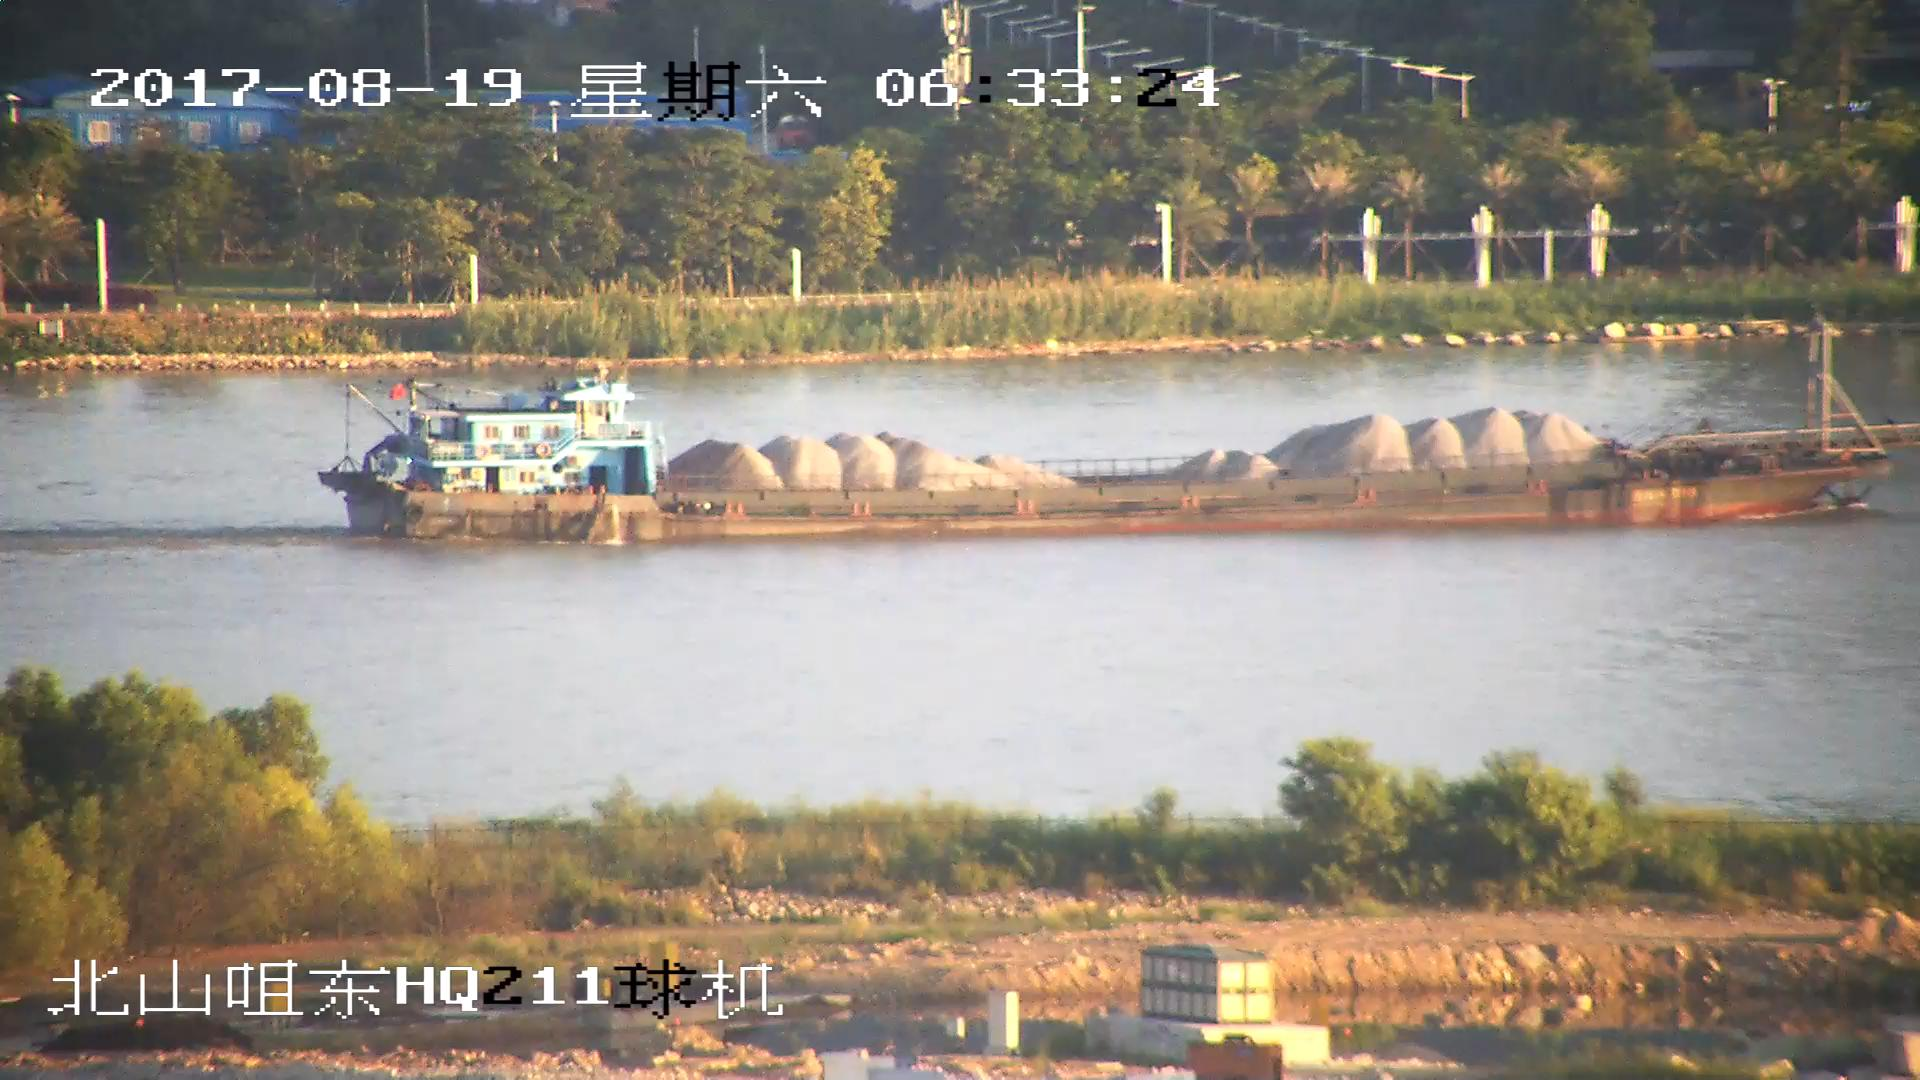ore carrier: (316, 320, 1920, 544)
